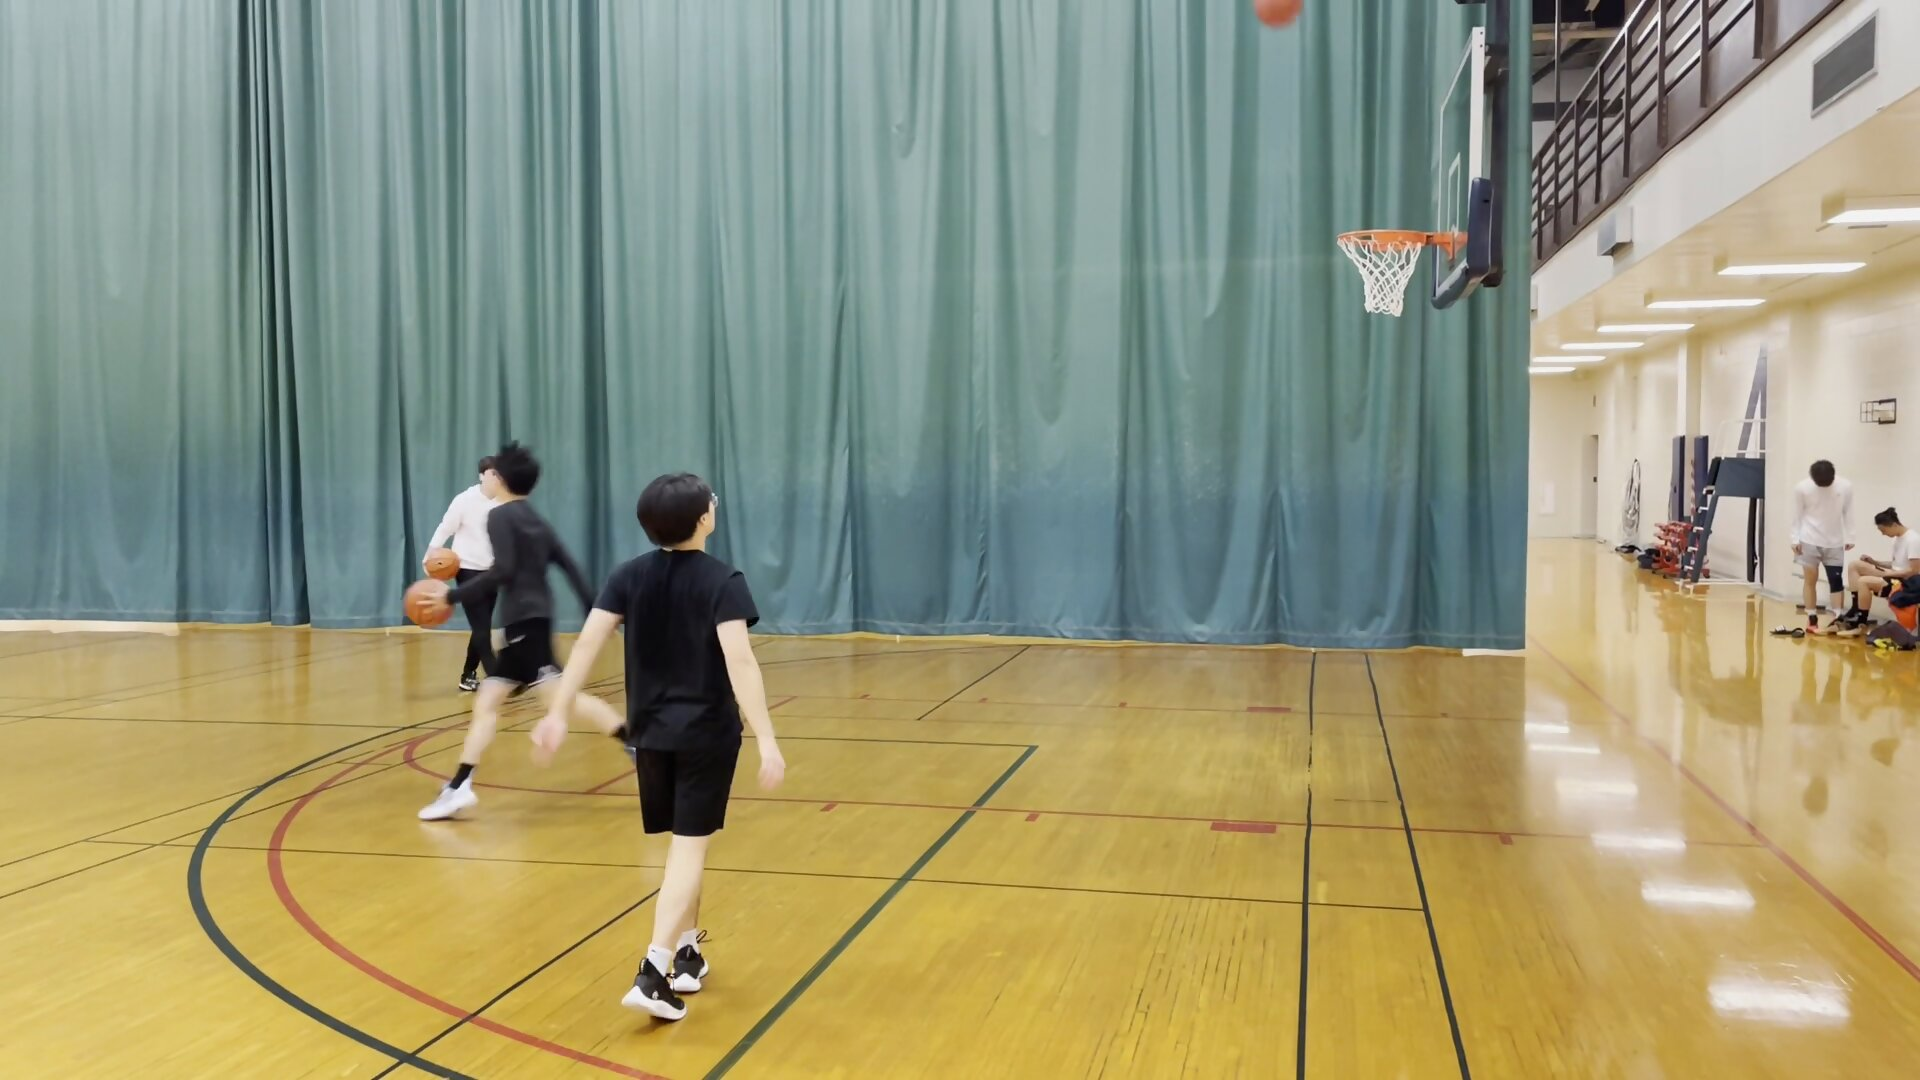ball: (403, 578, 458, 630), (417, 548, 464, 579)
net: (1355, 292, 1410, 321)
player: (535, 468, 784, 1034), (427, 439, 627, 817), (427, 460, 508, 692), (1789, 458, 1858, 629), (1848, 505, 1920, 634)
rim: (1333, 225, 1434, 255)
